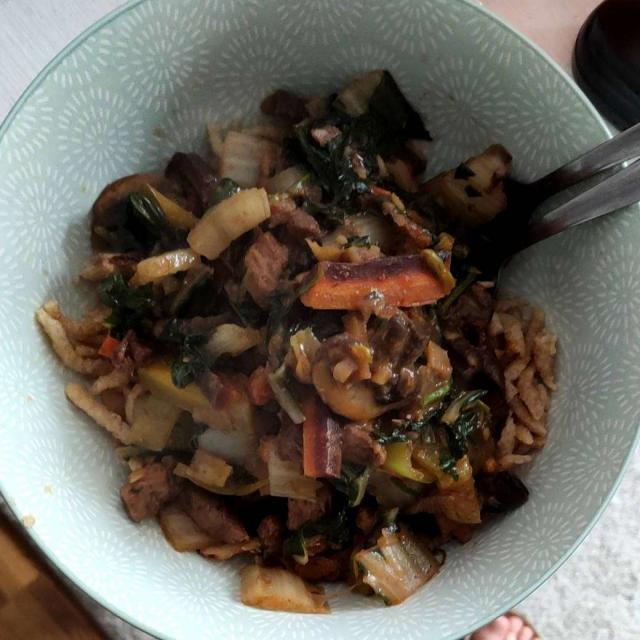mixed-vegetables: (51, 72, 518, 613)
